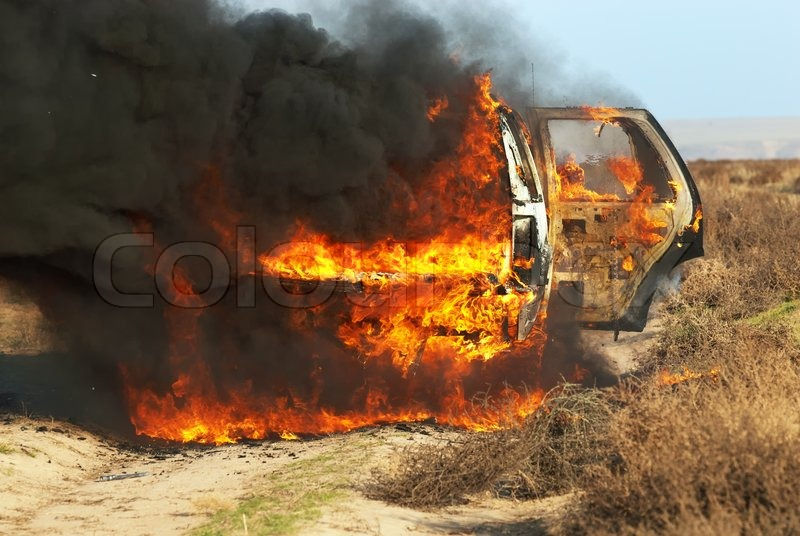fire: (197, 84, 621, 435)
